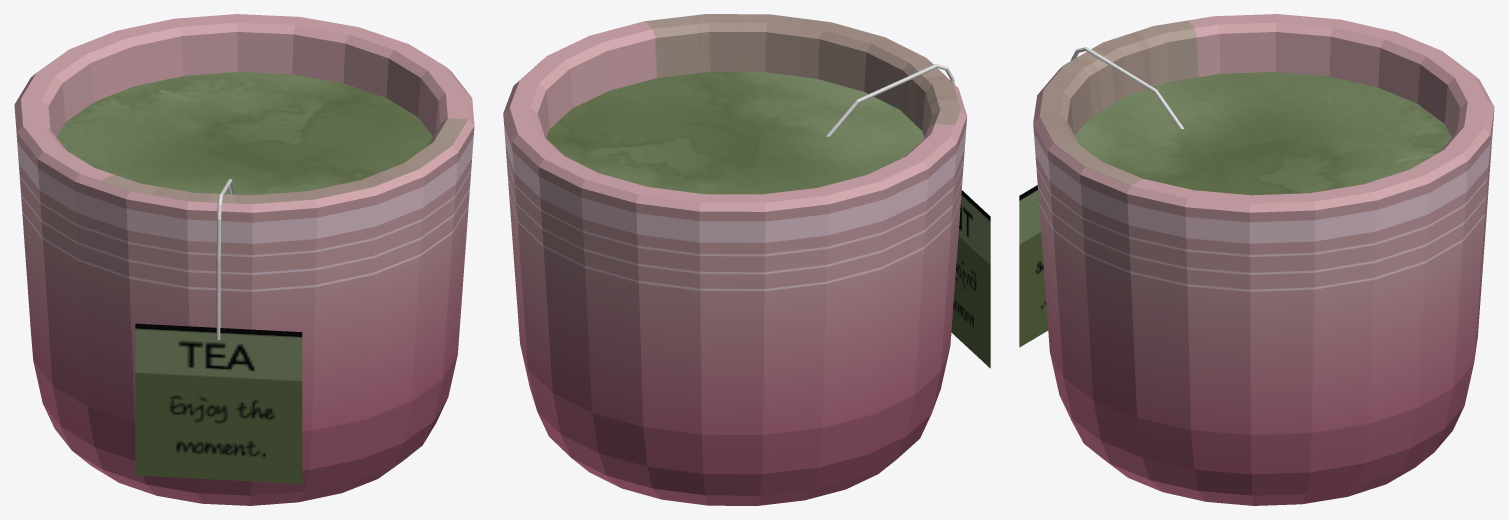
The model's file is TeaCup.fbx.
The picture shows the model from 3 angles, left to right: view 1: azimuth 30°, elevation 25°; view 2: azimuth 150°, elevation 25°; view 3: azimuth 270°, elevation 25°; orthographic projection.
Parts seen in each view (by area): view 1: Tea Cup; view 2: Tea Cup; view 3: Tea Cup.
Part boxes in pixels (box(x1,y1,x2,y2)): Tea Cup: box(14, 14, 474, 505); Tea Cup: box(503, 14, 990, 505); Tea Cup: box(1019, 14, 1494, 505).
Bounding box in the file's own units: 16.09 × 13.88 × 16.54.
Materials: 3 (2 with a texture image).
